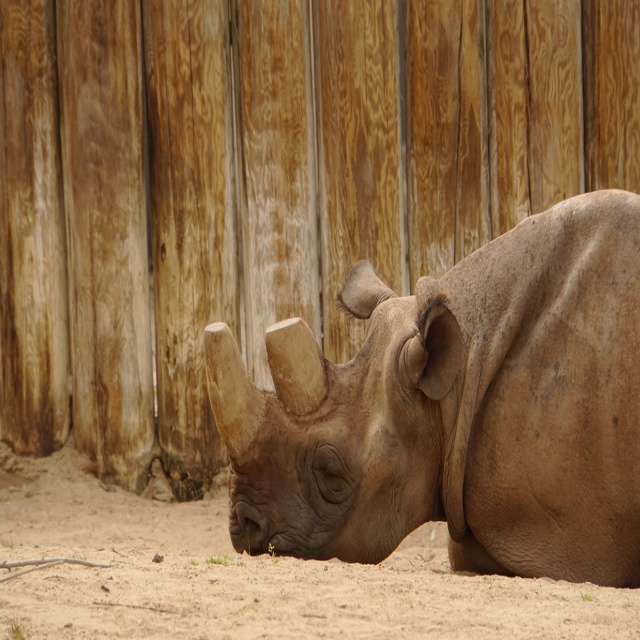Rhinoceros: (204, 183, 640, 594)
